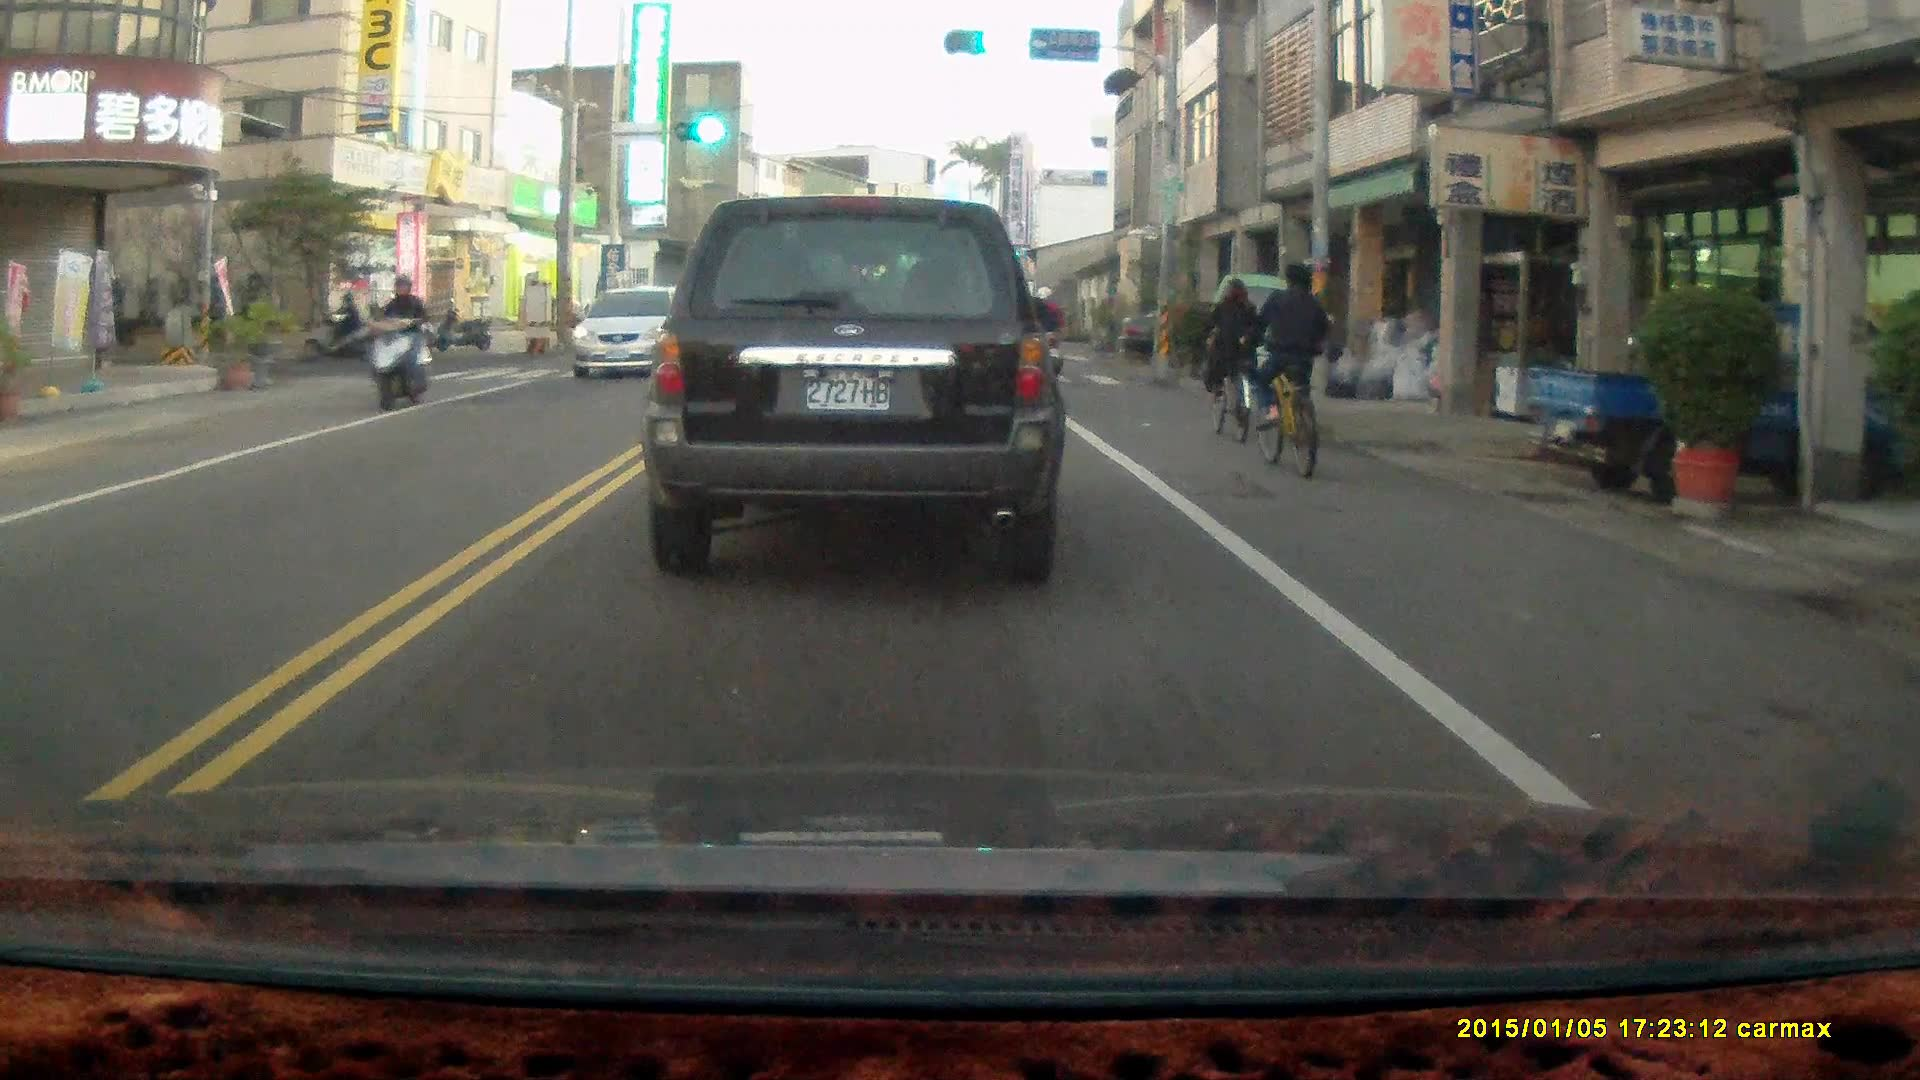rider: (1236, 260, 1331, 478), (1198, 277, 1261, 441), (364, 268, 433, 410), (301, 287, 379, 361)
vehicle: (640, 192, 1072, 584), (570, 284, 700, 380), (1204, 277, 1314, 390)
